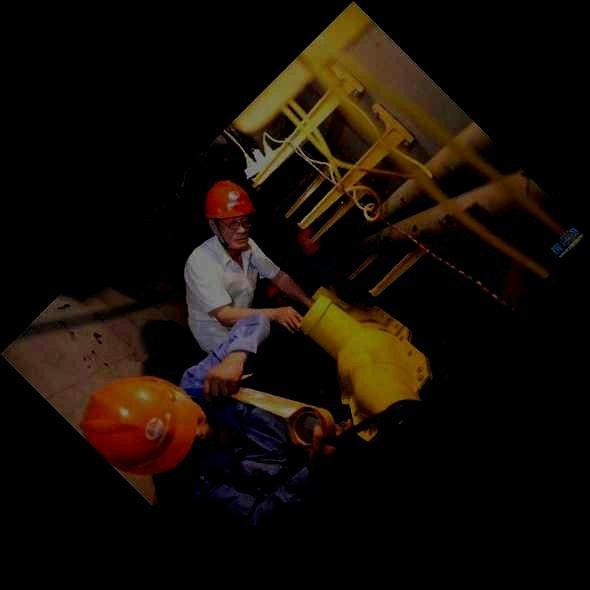helmet: (77, 374, 209, 474), (204, 179, 254, 250)
